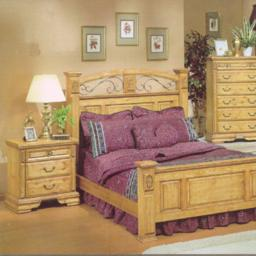Armario: (205, 57, 253, 141)
Cama: (78, 80, 249, 234)
